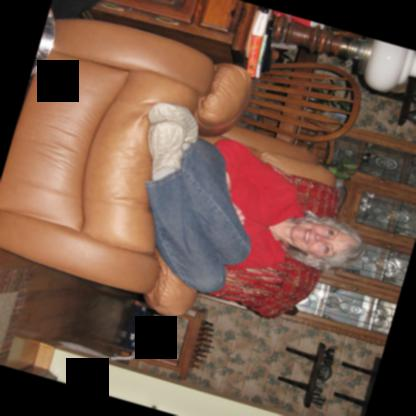backpack: (49, 0, 100, 19)
